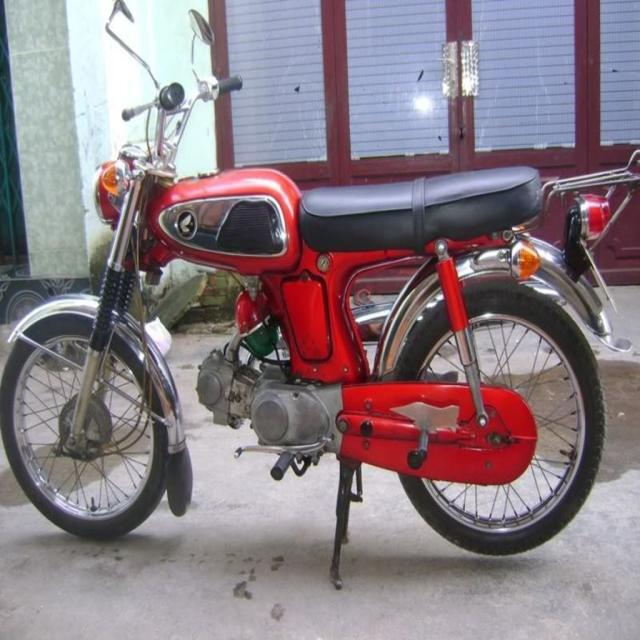Motorbikes: (1, 16, 631, 598)
